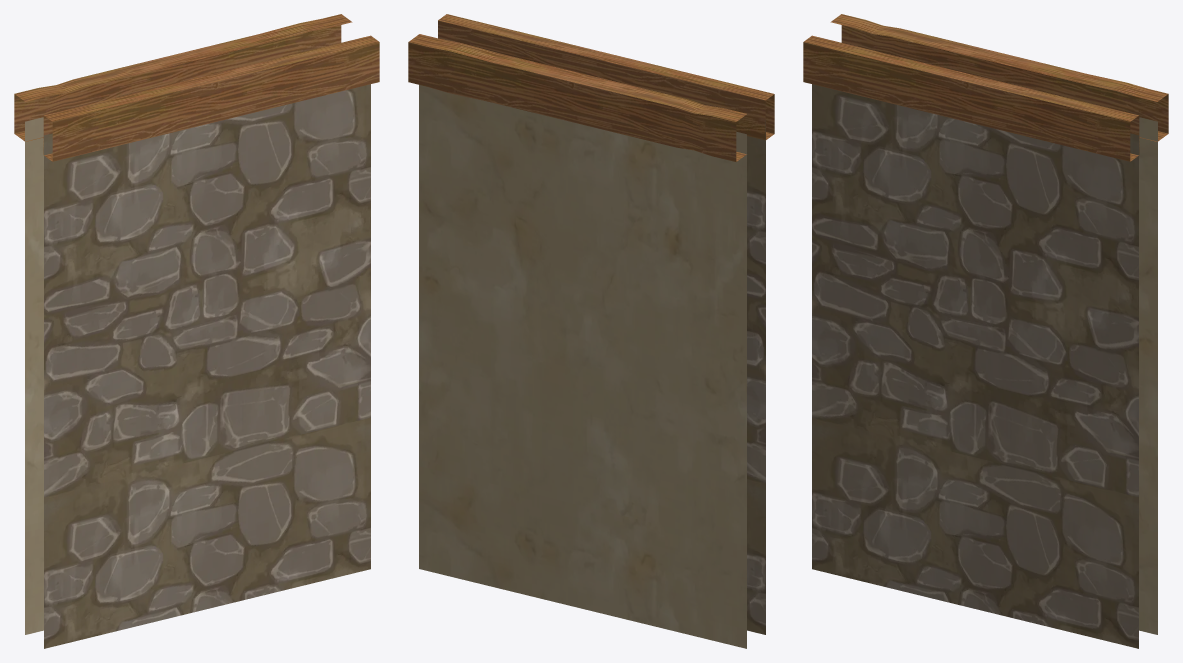
Rendered from wall_brick_straight.glb.
3 views of the same model, side by side, from view 1: azimuth 30°, elevation 25°; view 2: azimuth 150°, elevation 25°; view 3: azimuth 330°, elevation 25° (orthographic).
Visible parts, largest first — view 1: Wall_UnevenBrick_Straight; view 2: Wall_UnevenBrick_Straight; view 3: Wall_UnevenBrick_Straight.
Boxes of the visible parts, x1,y1,x2,y2 form: Wall_UnevenBrick_Straight: (14,14,379,648); Wall_UnevenBrick_Straight: (408,14,774,648); Wall_UnevenBrick_Straight: (803,14,1168,648).
Size of the model in its own units: 2 by 3.12 by 0.4064.
Materials: 3 (3 with a texture image).
